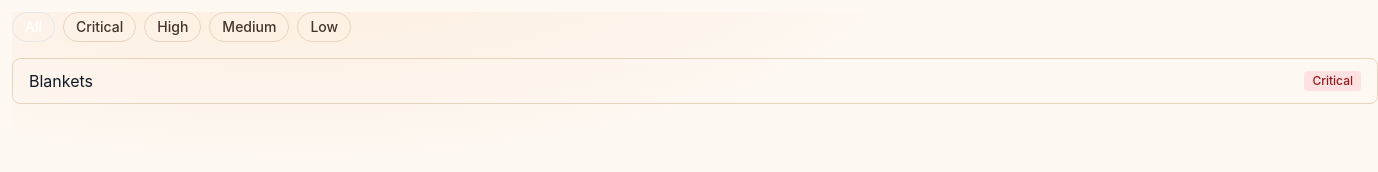
Test: NeedsFilter › shows "No current needs." when filtered list is empty
Click the button "Low" at (324, 27), box [297,12,351,42]
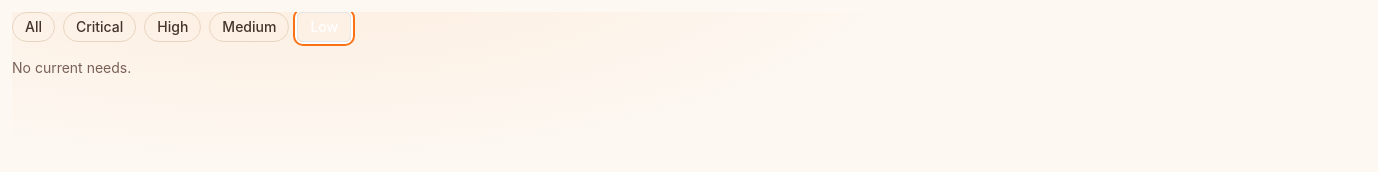
Now the text "No current needs." is shown, box [12,59,131,76]
